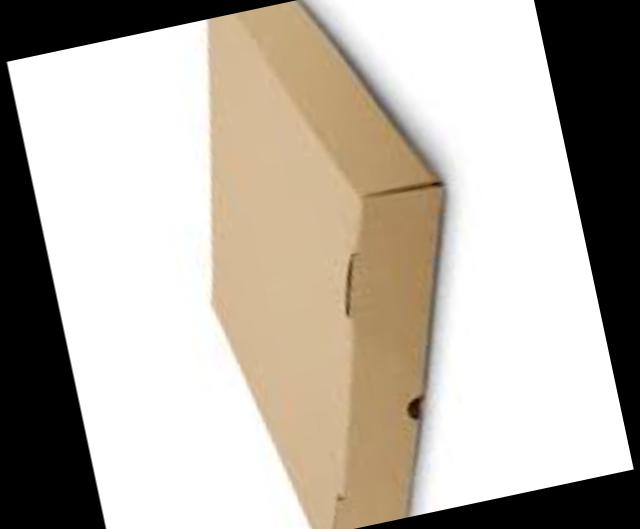cardboard paper: (204, 0, 437, 529)
